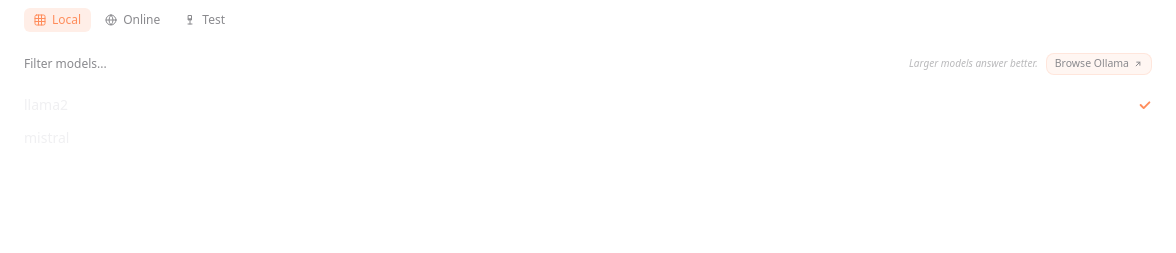
Test: ProviderPickerPanel › online tab › shows connection prompt when not connected
Click the button "Online".
click(133, 20)  # box 95,8 -> 170,32
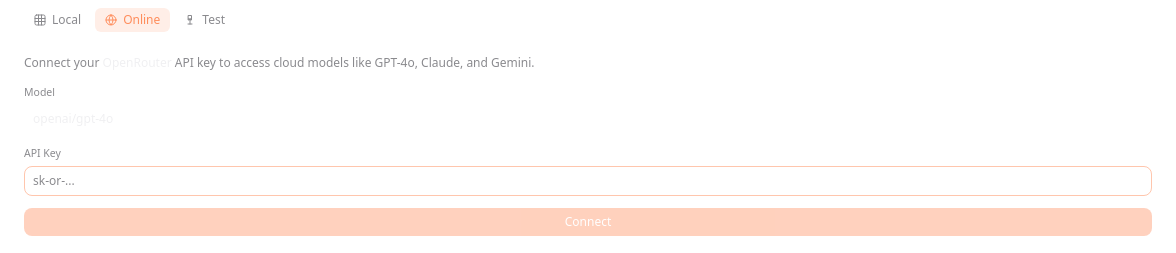
Check: the password field with placeholder "sk-or-..." is shown, box 24,166 -> 1152,196
